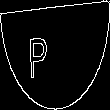P_N: (44, 29, 66, 81)
